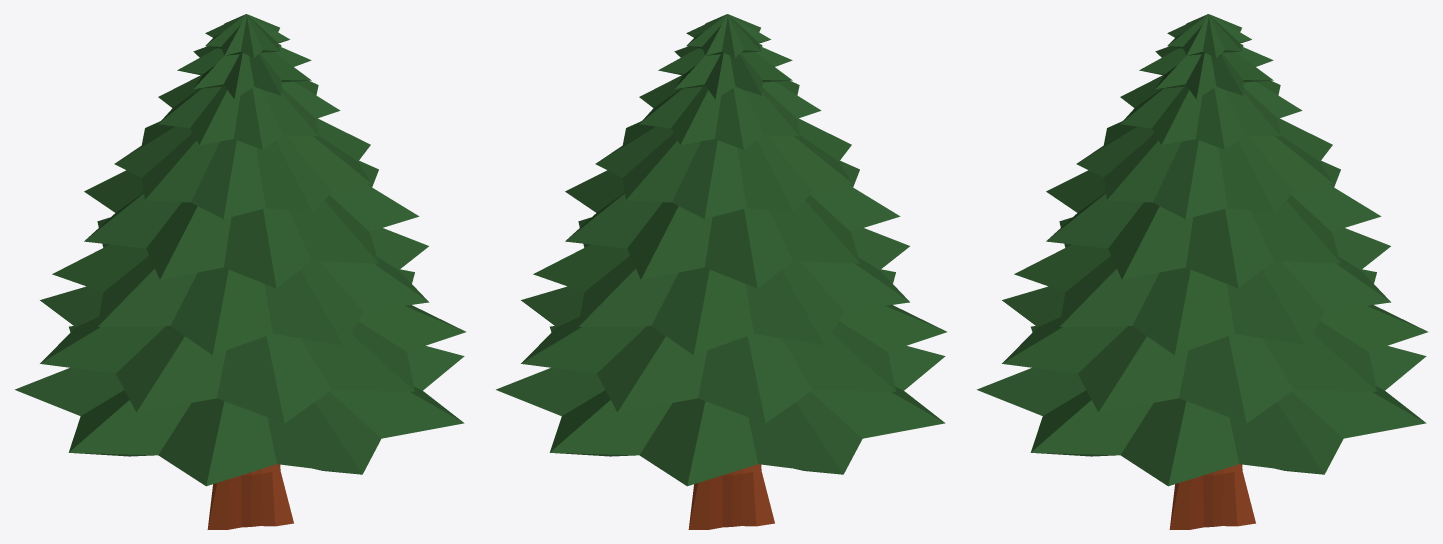
Rendered from Tree.fbx.
3 renders of one model, left to right at view 1: azimuth 30°, elevation 25°; view 2: azimuth 150°, elevation 25°; view 3: azimuth 270°, elevation 25°, orthographic.
Visible parts, largest first — view 1: Trunk, Leaves; view 2: Trunk, Leaves; view 3: Trunk, Leaves.
Part boxes in pixels (bbox=[...]): Trunk: bbox=[15, 14, 465, 486]; Leaves: bbox=[207, 464, 293, 529]; Trunk: bbox=[496, 14, 946, 486]; Leaves: bbox=[688, 464, 774, 529]; Trunk: bbox=[977, 14, 1427, 486]; Leaves: bbox=[1169, 464, 1255, 529].
Size of the model in its own units: 416 by 504 by 412.
